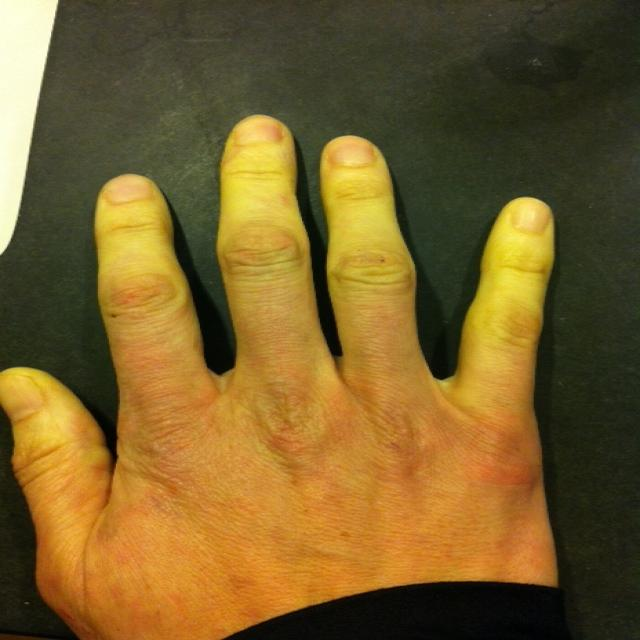raynauds: (64, 153, 208, 375), (203, 92, 317, 345), (453, 177, 557, 395), (0, 352, 112, 520), (322, 142, 426, 322)
